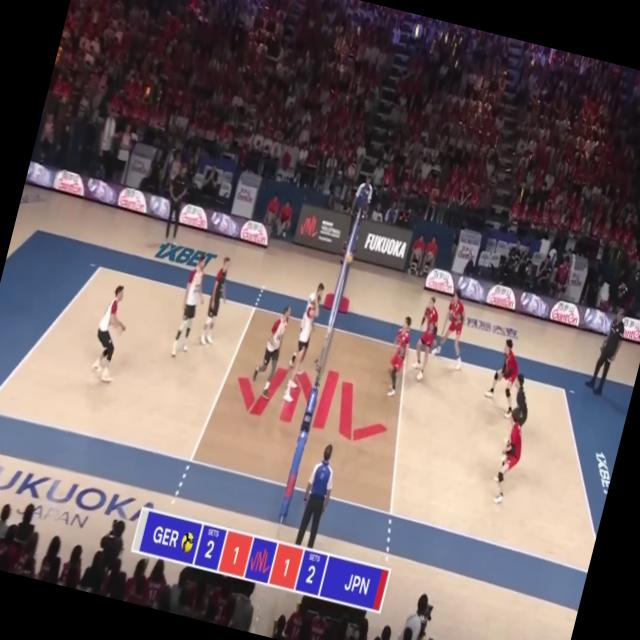referee: (292, 442, 341, 548)
team_one: (84, 280, 139, 386), (168, 250, 215, 362), (247, 300, 294, 402), (282, 298, 322, 404), (198, 253, 236, 349), (288, 280, 324, 374)
team_two: (481, 404, 534, 509), (479, 334, 528, 420), (431, 286, 479, 372), (406, 295, 445, 384), (381, 312, 417, 398), (502, 370, 537, 431)
